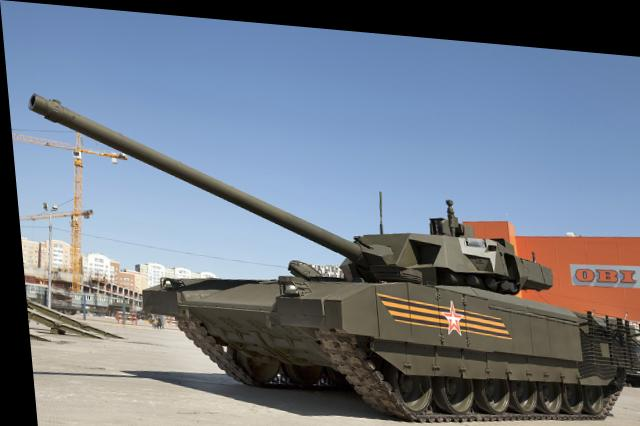tank: (17, 77, 640, 424)
